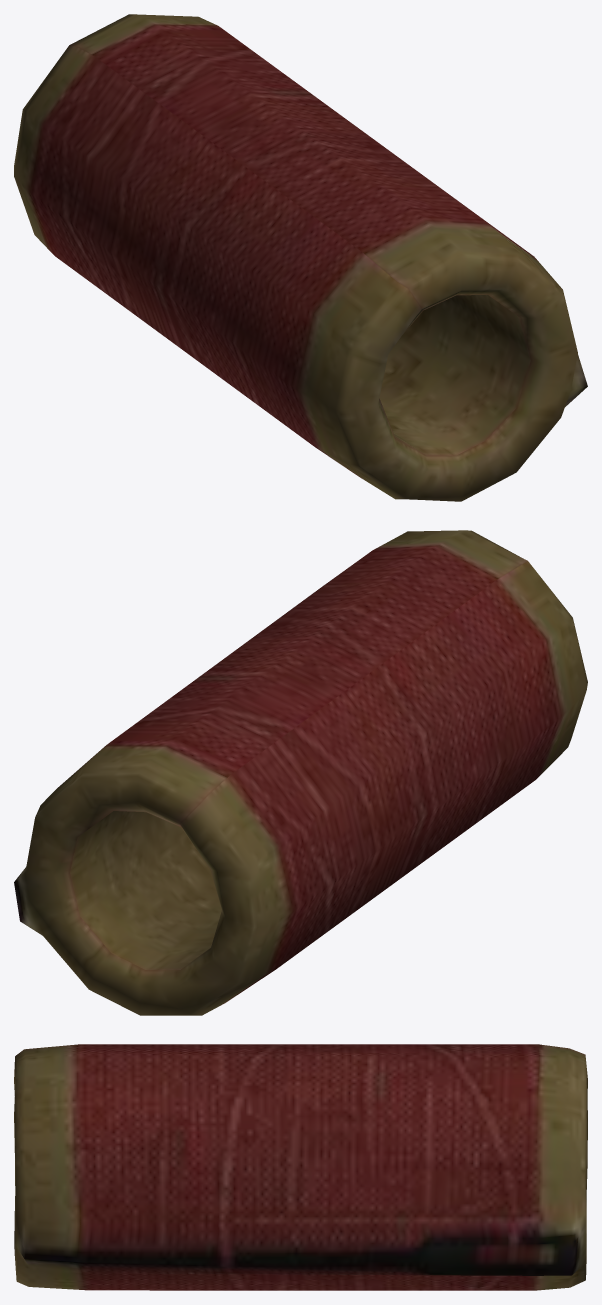
The model's file is sewingkit.worldmodel.glb.
3 renders of one model, top to bottom at view 1: azimuth 30°, elevation 25°; view 2: azimuth 150°, elevation 25°; view 3: azimuth 270°, elevation 25°, orthographic. The views are drawn at different scales.
Visible parts, largest first — view 1: sewingKit_LOD0; view 2: sewingKit_LOD0; view 3: sewingKit_LOD0.
Boxes of the visible parts, x1,y1,x2,y2 form: sewingKit_LOD0: [14, 14, 587, 501]; sewingKit_LOD0: [14, 530, 587, 1015]; sewingKit_LOD0: [14, 1044, 587, 1290].
Size of the model in its own units: 0.2093 by 0.2011 by 0.4637.
Materials: 1 (1 with a texture image).
